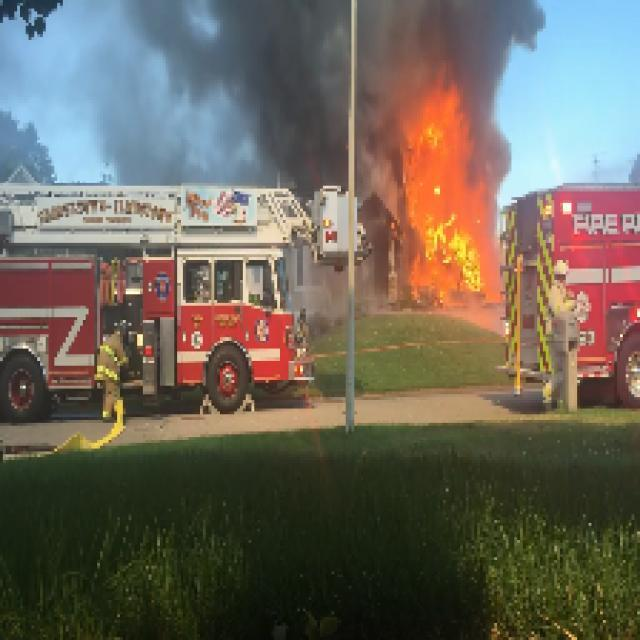Fire: (394, 65, 506, 308)
Smoke: (72, 3, 554, 194)
